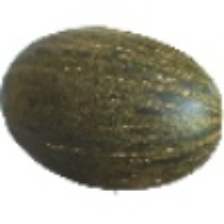honeydew: (0, 29, 196, 178)
